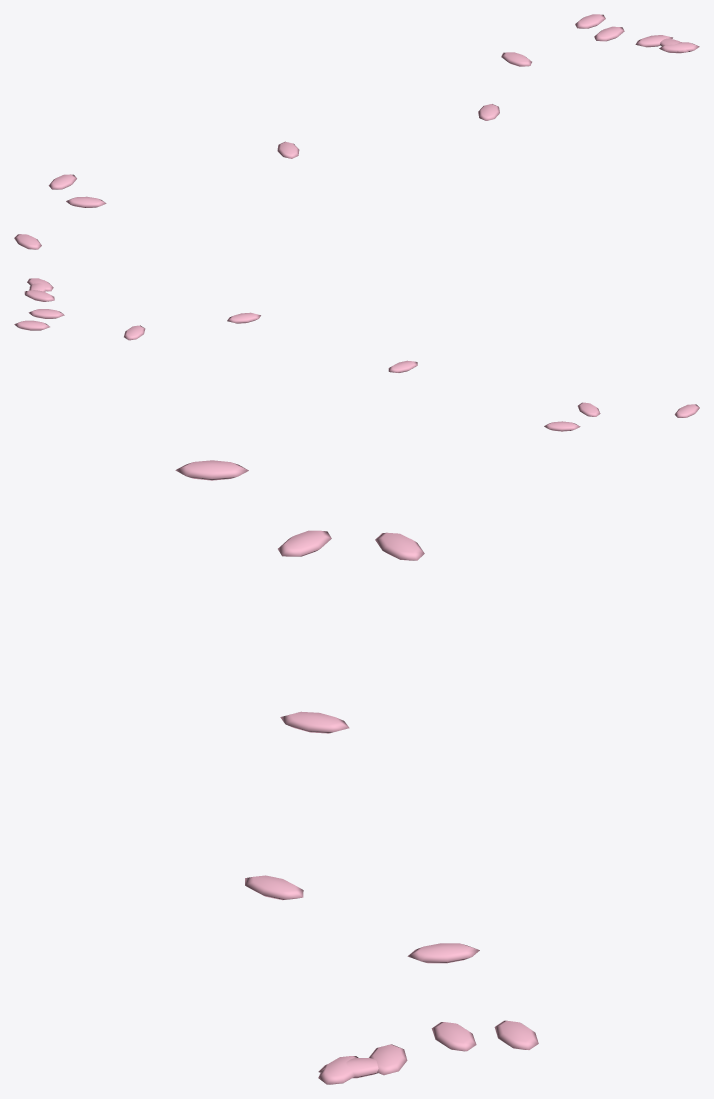
File: layer_spring_edge.glb
3 renders of one model, top to bottom at view 1: azimuth 30°, elevation 25°; view 2: azimuth 150°, elevation 25°; view 3: azimuth 270°, elevation 25°, orthographic. The views are drawn at different scales.
Size of the model in its own units: 2.78 by 0.0249 by 0.6861.
